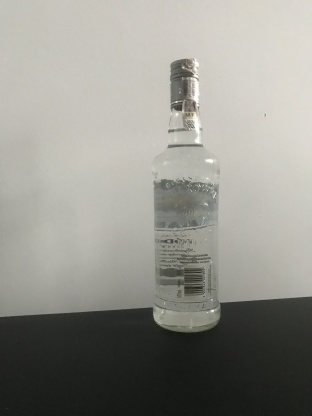nakretka: (168, 56, 201, 112)
